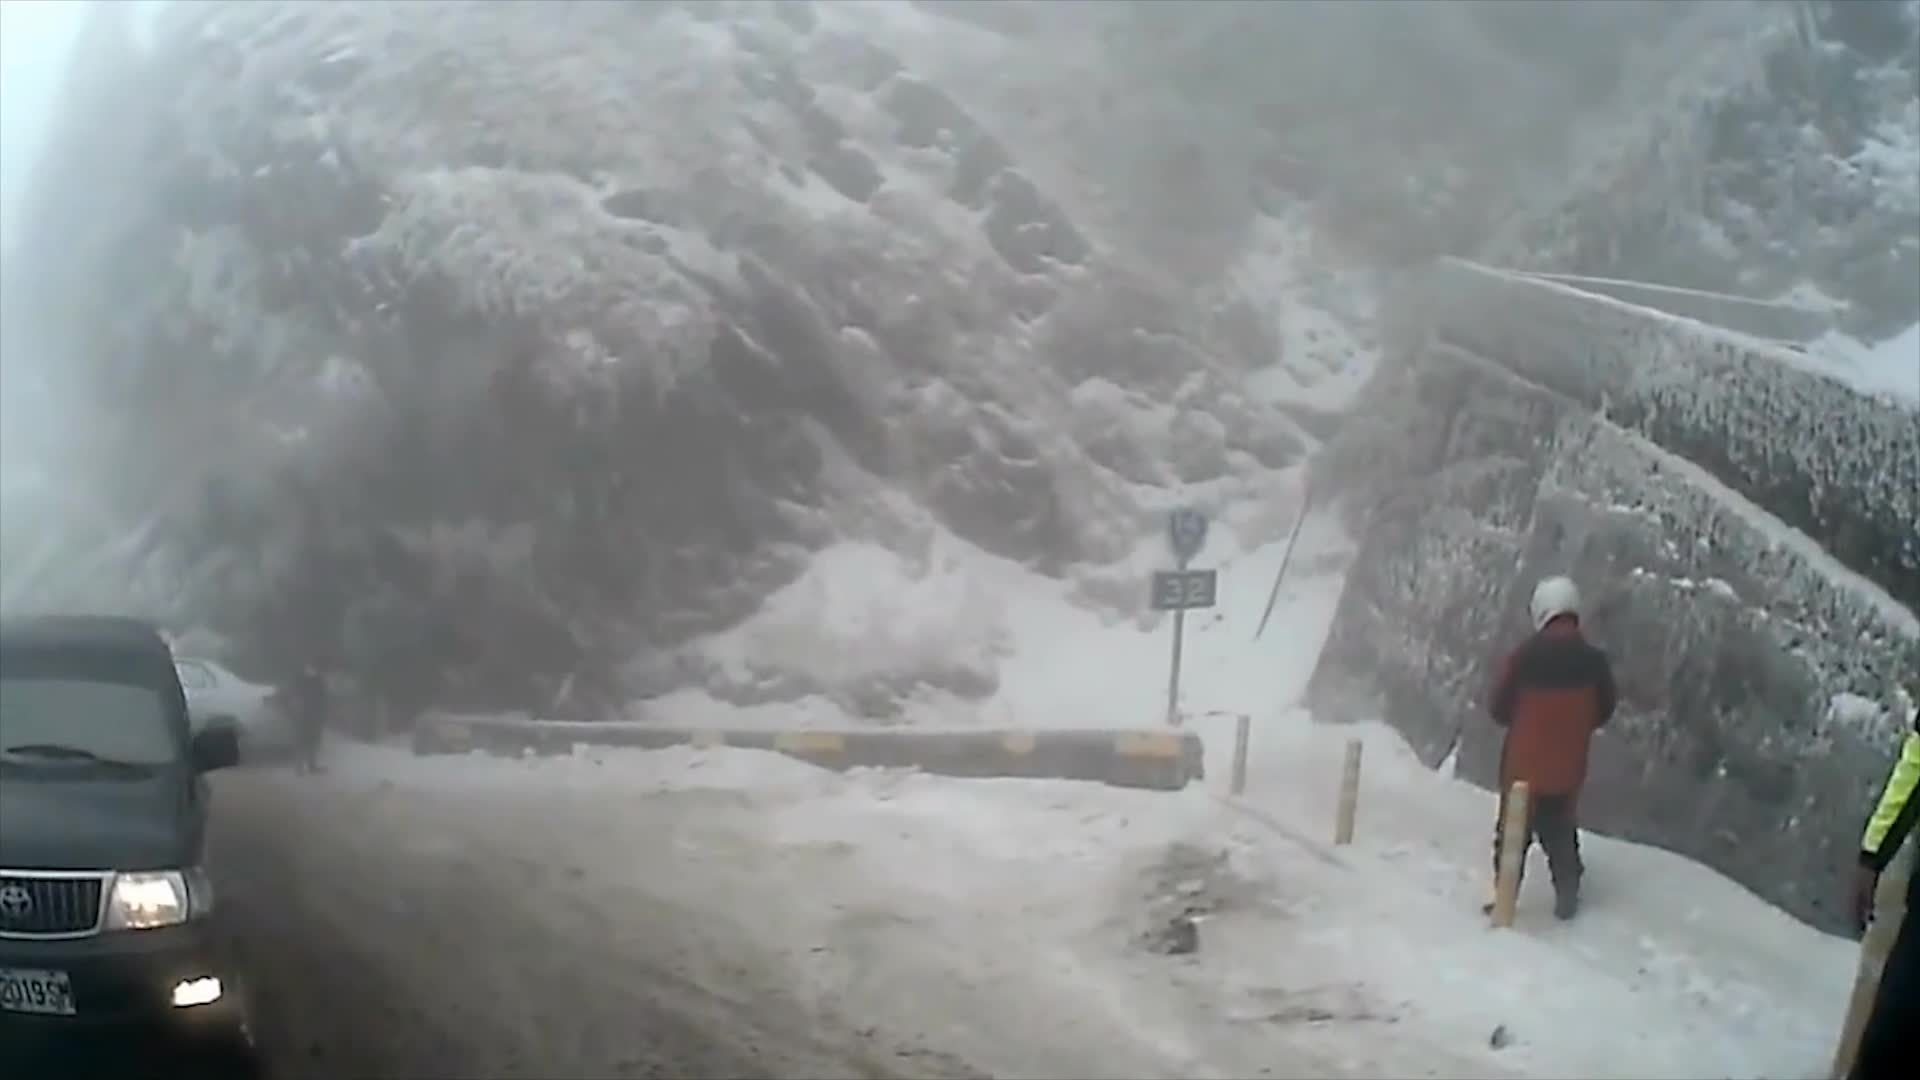pedestrian: (1489, 573, 1622, 917)
vehicle: (0, 611, 259, 1080)
